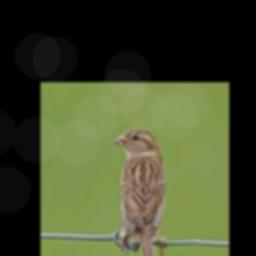Sparrow: (113, 126, 165, 256)
